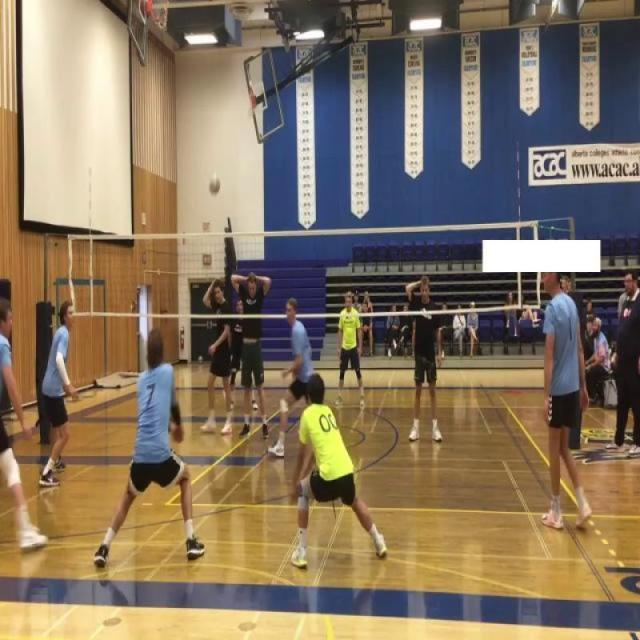volleyball: (208, 176, 221, 196)
